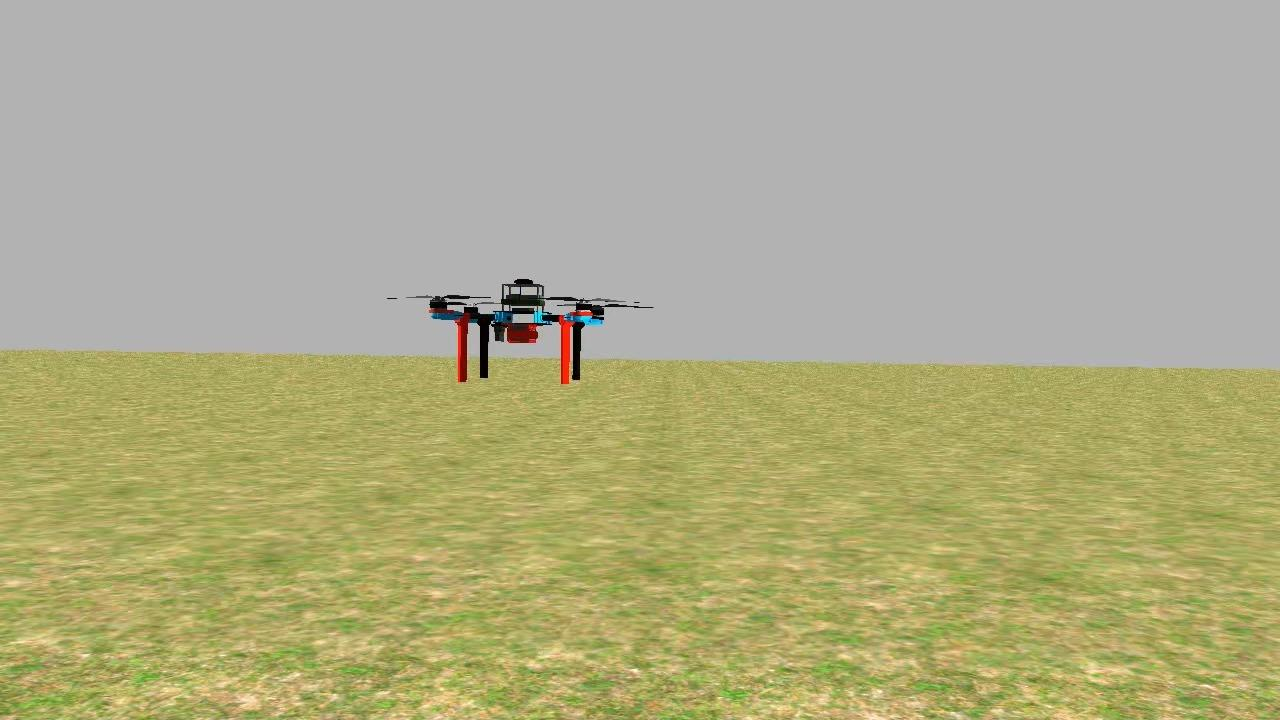UAV: (420, 268, 608, 386)
